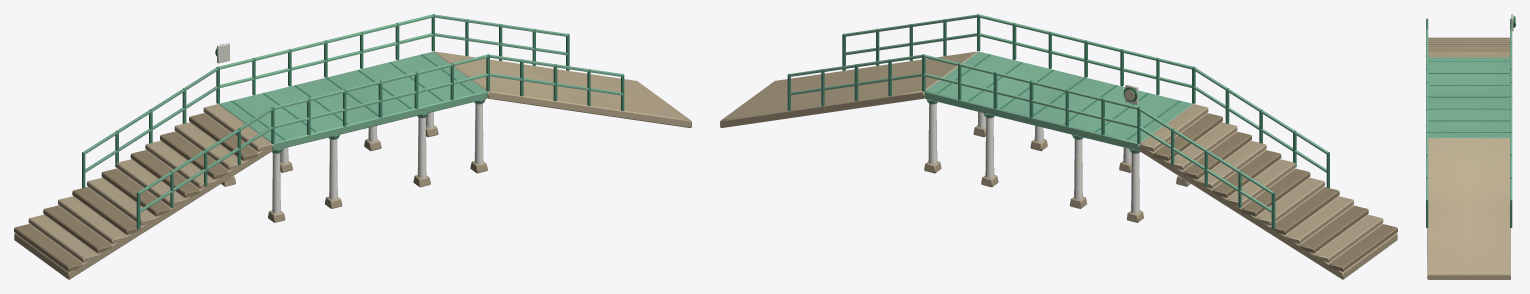
File: canopy_deck.glb
3 views of the same model, side by side, from view 1: azimuth 30°, elevation 25°; view 2: azimuth 150°, elevation 25°; view 3: azimuth 270°, elevation 25° (orthographic). The views are drawn at different scales.
Parts seen in each view (by area): view 1: canopy_deck; view 2: canopy_deck; view 3: canopy_deck.
Part boxes in pixels (x1,y1,x2,y2): canopy_deck: (14,14,691,279); canopy_deck: (720,14,1397,279); canopy_deck: (1426,14,1515,279).
Size of the model in its own units: 19.71 by 4.34 by 3.21.
